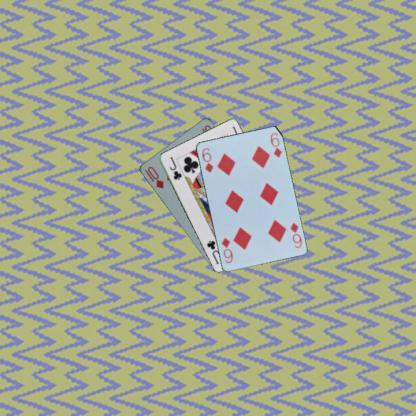10d: (142, 164, 165, 190)
6d: (287, 220, 303, 249), (200, 144, 214, 173)
Jc: (166, 154, 184, 182)
